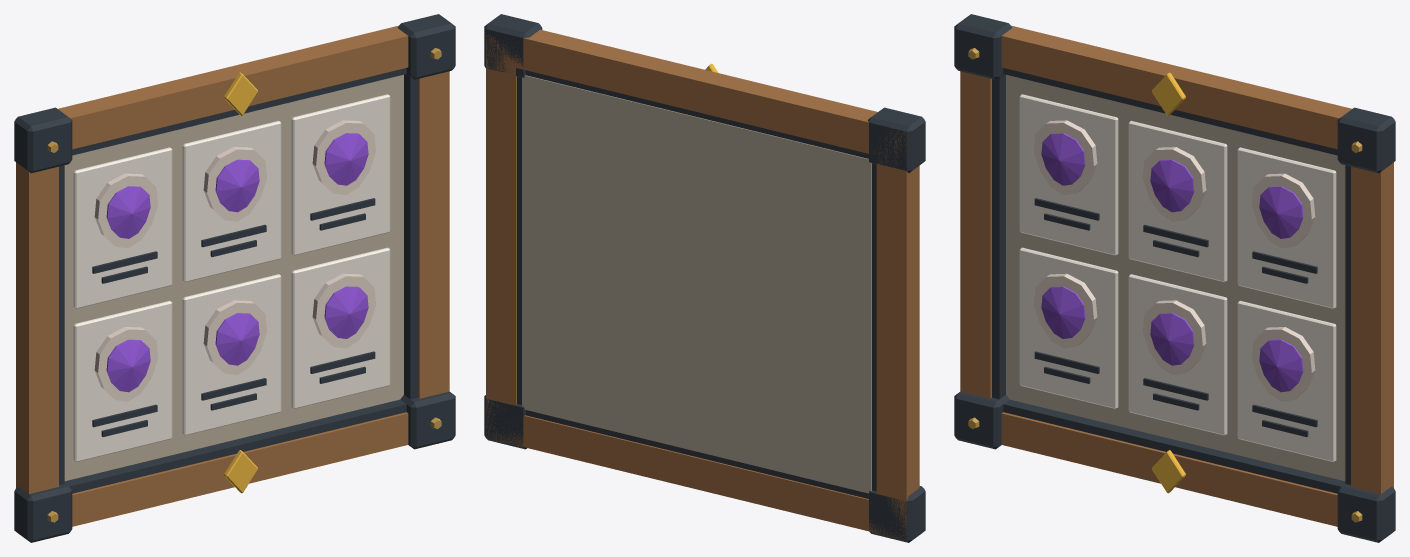
File: Gallery_IndexBoard.fbx
3 views of the same model, side by side, from view 1: azimuth 30°, elevation 25°; view 2: azimuth 150°, elevation 25°; view 3: azimuth 330°, elevation 25° (orthographic).
Visible parts, largest first — view 1: Cream_SmoothPlastic, Wood, FrameDark, Concrete_SmoothPlastic, Rim, Gem2, Gem1, Gem4, Gem5, Gem6, Gem3, Amber_Metal; view 2: Concrete_SmoothPlastic, Wood, FrameDark; view 3: Cream_SmoothPlastic, Wood, FrameDark, Concrete_SmoothPlastic, Rim, Gem2, Gem3, Gem6, Gem5, Gem4, Gem1, Amber_Metal.
Part boxes in pixels (bbox=[...]): Cream_SmoothPlastic: bbox=[73, 94, 390, 462]; Wood: bbox=[16, 25, 449, 526]; FrameDark: bbox=[14, 14, 455, 542]; Concrete_SmoothPlastic: bbox=[64, 74, 403, 481]; Rim: bbox=[94, 120, 375, 401]; Gem2: bbox=[215, 159, 259, 212]; Gem1: bbox=[106, 186, 150, 238]; Gem4: bbox=[106, 339, 150, 392]; Gem5: bbox=[215, 313, 259, 365]; Gem6: bbox=[324, 286, 368, 338]; Gem3: bbox=[324, 133, 368, 185]; Amber_Metal: bbox=[224, 72, 257, 493]; Concrete_SmoothPlastic: bbox=[522, 75, 871, 493]; Wood: bbox=[486, 29, 919, 539]; FrameDark: bbox=[484, 14, 925, 542]; Cream_SmoothPlastic: bbox=[1019, 94, 1336, 462]; Wood: bbox=[960, 25, 1393, 526]; FrameDark: bbox=[954, 14, 1395, 542]; Concrete_SmoothPlastic: bbox=[1006, 74, 1345, 481]; Rim: bbox=[1034, 120, 1315, 401]; Gem2: bbox=[1150, 159, 1194, 212]; Gem3: bbox=[1259, 186, 1303, 238]; Gem6: bbox=[1259, 339, 1303, 392]; Gem5: bbox=[1150, 313, 1194, 365]; Gem4: bbox=[1041, 286, 1085, 338]; Gem1: bbox=[1041, 133, 1085, 185]; Amber_Metal: bbox=[1152, 72, 1185, 493].
Bounding box in the file's own units: 5.7 × 5.33 × 0.46.
